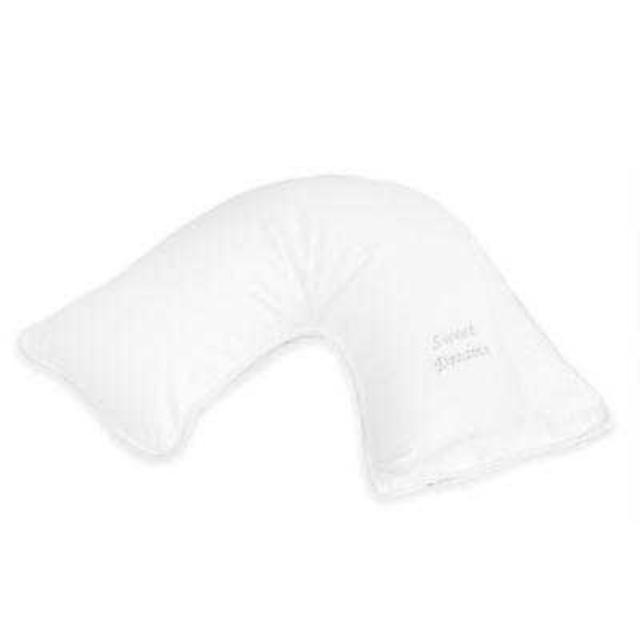pillow: (16, 170, 614, 500)
